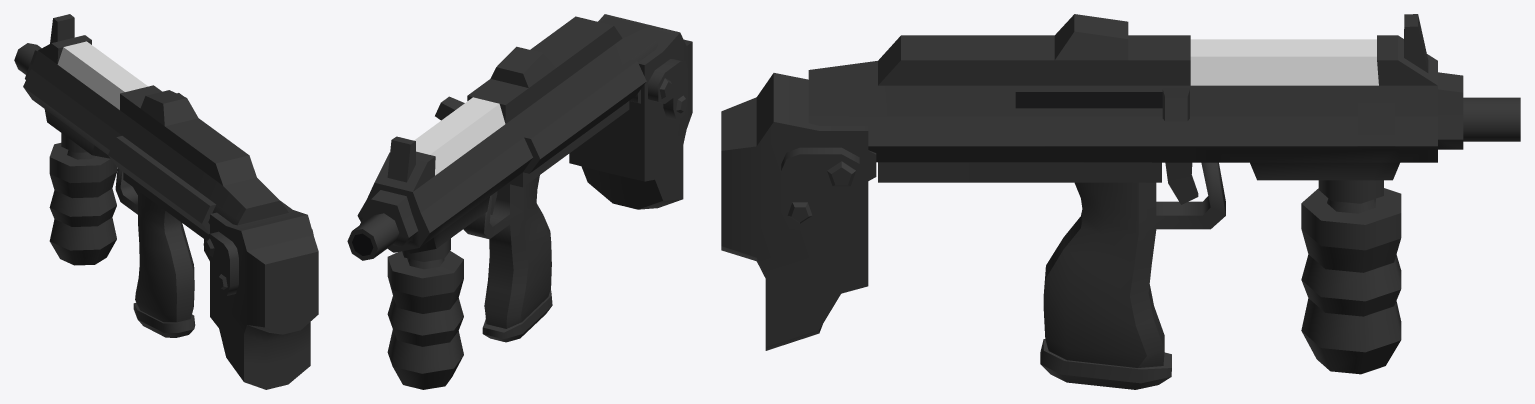
The picture shows the model from 3 angles, left to right: view 1: azimuth 30°, elevation 25°; view 2: azimuth 150°, elevation 25°; view 3: azimuth 270°, elevation 25°; orthographic projection. The views are drawn at different scales.
Parts seen in each view (by area): view 1: WT550; view 2: WT550; view 3: WT550.
Boxes of the visible parts, box(x1,y1,x2,y2) form: WT550: box(14, 14, 318, 389); WT550: box(347, 14, 692, 389); WT550: box(721, 14, 1520, 389).
Size of the model in its own units: 0.0981 by 0.2438 by 0.4892.
